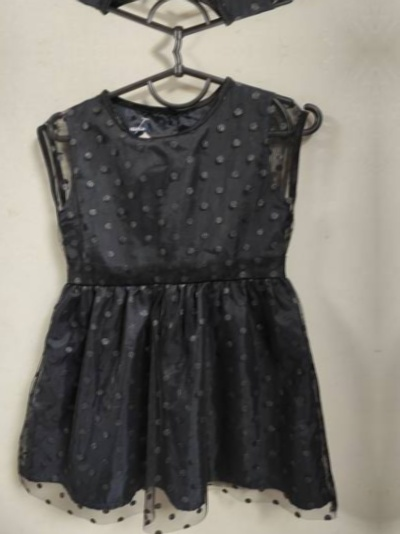Dress: (10, 70, 357, 520), (6, 0, 353, 32), (399, 67, 400, 517), (395, 0, 400, 29)
